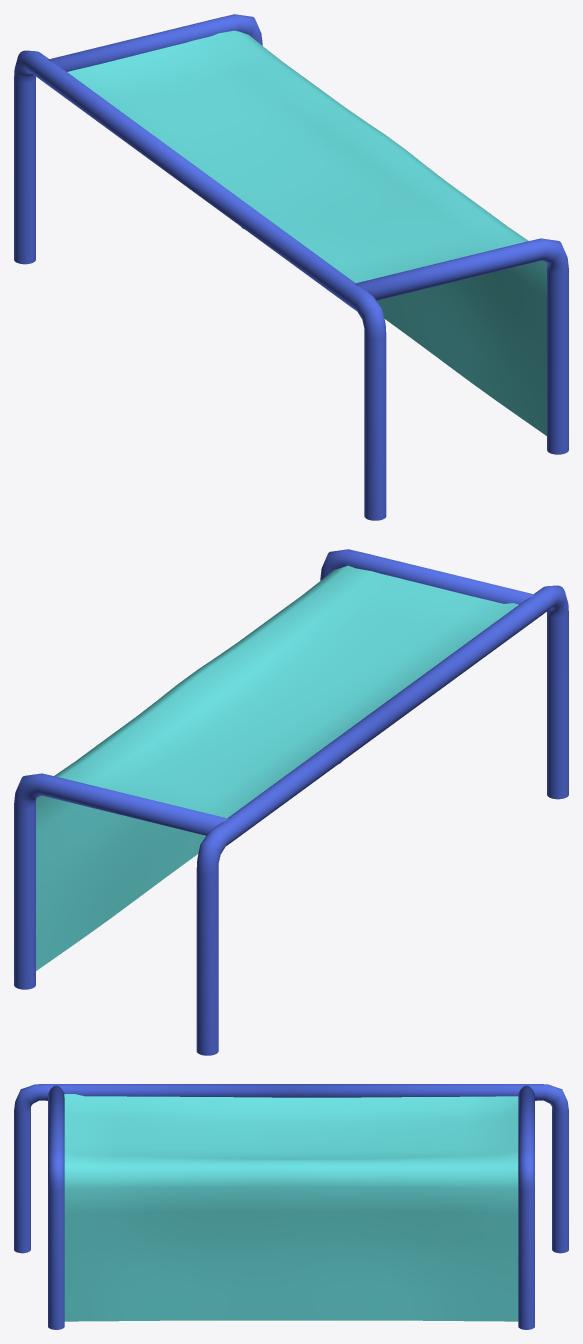
The model's file is Bgoal.fbx.
3 renders of one model, top to bottom at view 1: azimuth 30°, elevation 25°; view 2: azimuth 150°, elevation 25°; view 3: azimuth 270°, elevation 25°, orthographic. The views are drawn at different scales.
Parts seen in each view (by area): view 1: B_Net, B_Goalbar_01, B_Goalbar_02; view 2: B_Net, B_Goalbar_01, B_Goalbar_02; view 3: B_Net, B_Goalbar_01, B_Goalbar_02.
Part boxes in pixels (bbox=[...]): B_Net: bbox=[67, 30, 546, 435]; B_Goalbar_01: bbox=[14, 50, 386, 520]; B_Goalbar_02: bbox=[48, 14, 568, 454]; B_Net: bbox=[36, 565, 518, 970]; B_Goalbar_01: bbox=[196, 585, 568, 1055]; B_Goalbar_02: bbox=[14, 549, 534, 989]; B_Net: bbox=[64, 1094, 518, 1321]; B_Goalbar_01: bbox=[14, 1084, 568, 1253]; B_Goalbar_02: bbox=[48, 1085, 534, 1329].
Size of the model in its own units: 83.42 by 76.49 by 233.
